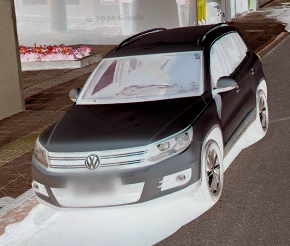car: (32, 25, 271, 213)
